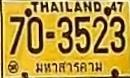0: (26, 16, 42, 53)
2: (92, 16, 108, 53)
3: (57, 16, 72, 53), (110, 16, 124, 53)
5: (74, 16, 90, 53)
7: (9, 16, 24, 54)
MKM: (35, 60, 104, 76)
